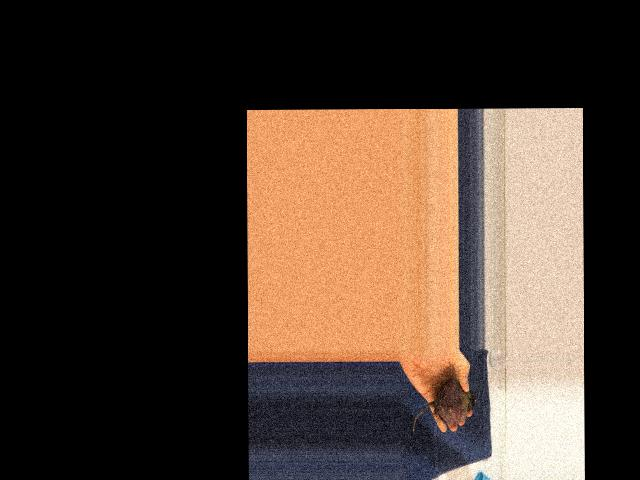beet: (412, 379, 476, 434)
